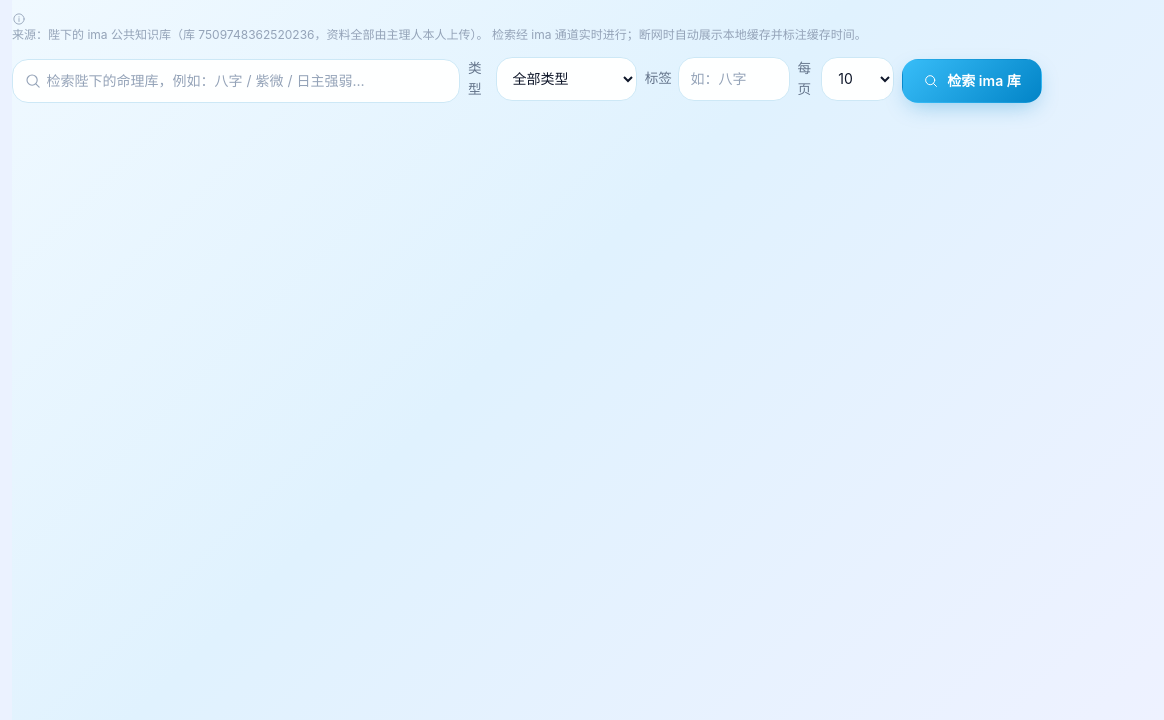
Test case: ImaPanel › 后端报错原样展示
Type "八字" into the field named "ima 检索词" at {"x": 236, "y": 81}, box [12, 59, 460, 103]
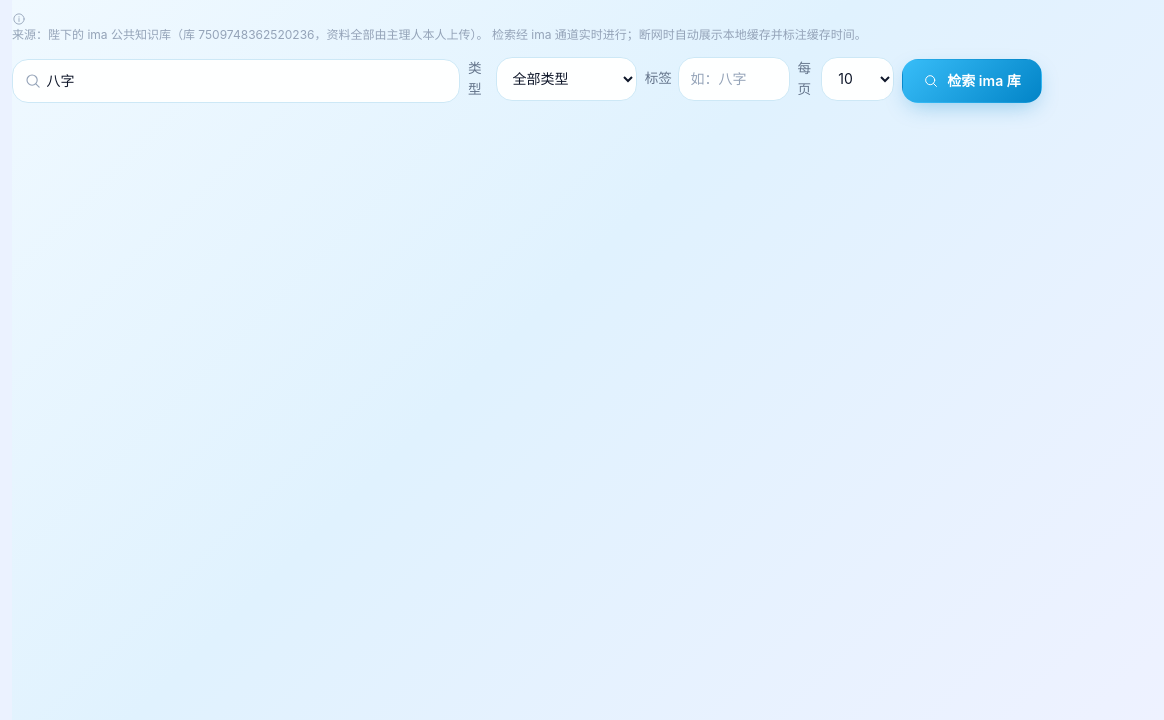
Click the button with test id "ima-search-btn" at {"x": 972, "y": 81}, box [902, 59, 1042, 103]
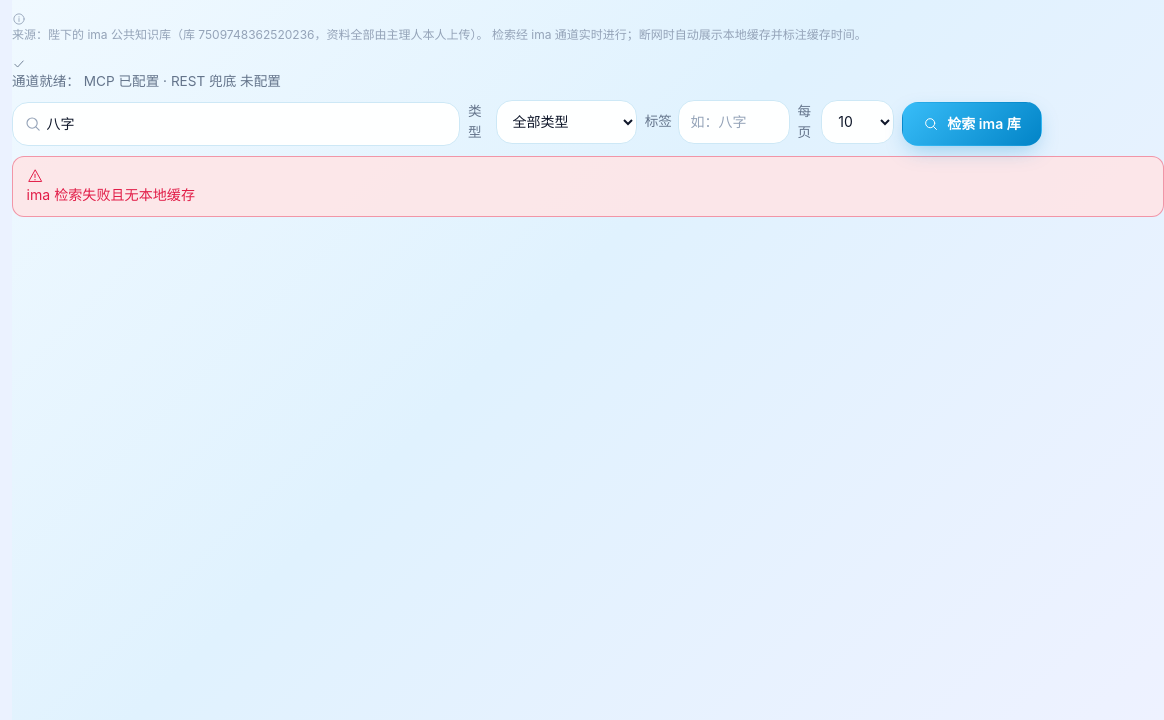
Expected: the message with test id "ima-search-error" shows "无本地缓存", [27, 186, 195, 203]
